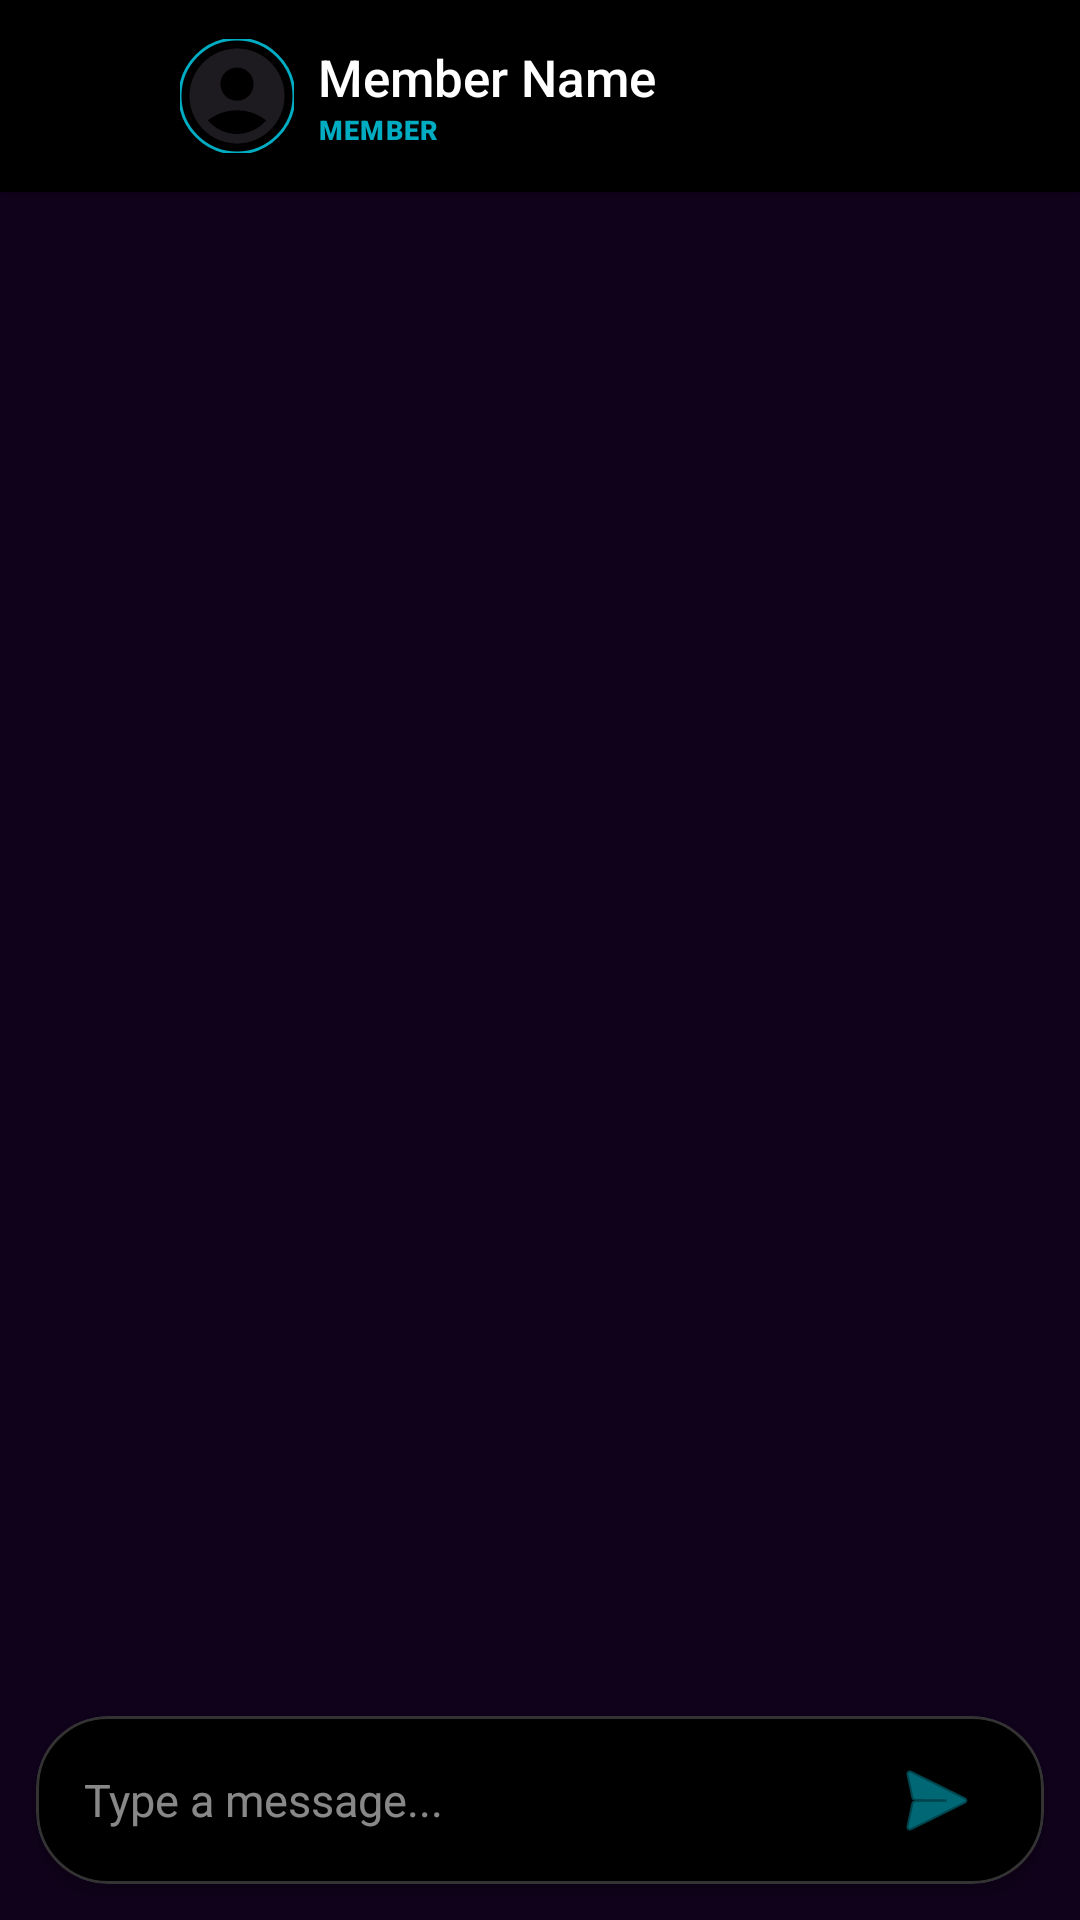

Screen size 1080 × 1920. Icon name, then its box in pixels as Rect(x1, y1, x2, y2):
send: Rect(906, 1770, 968, 1831)
